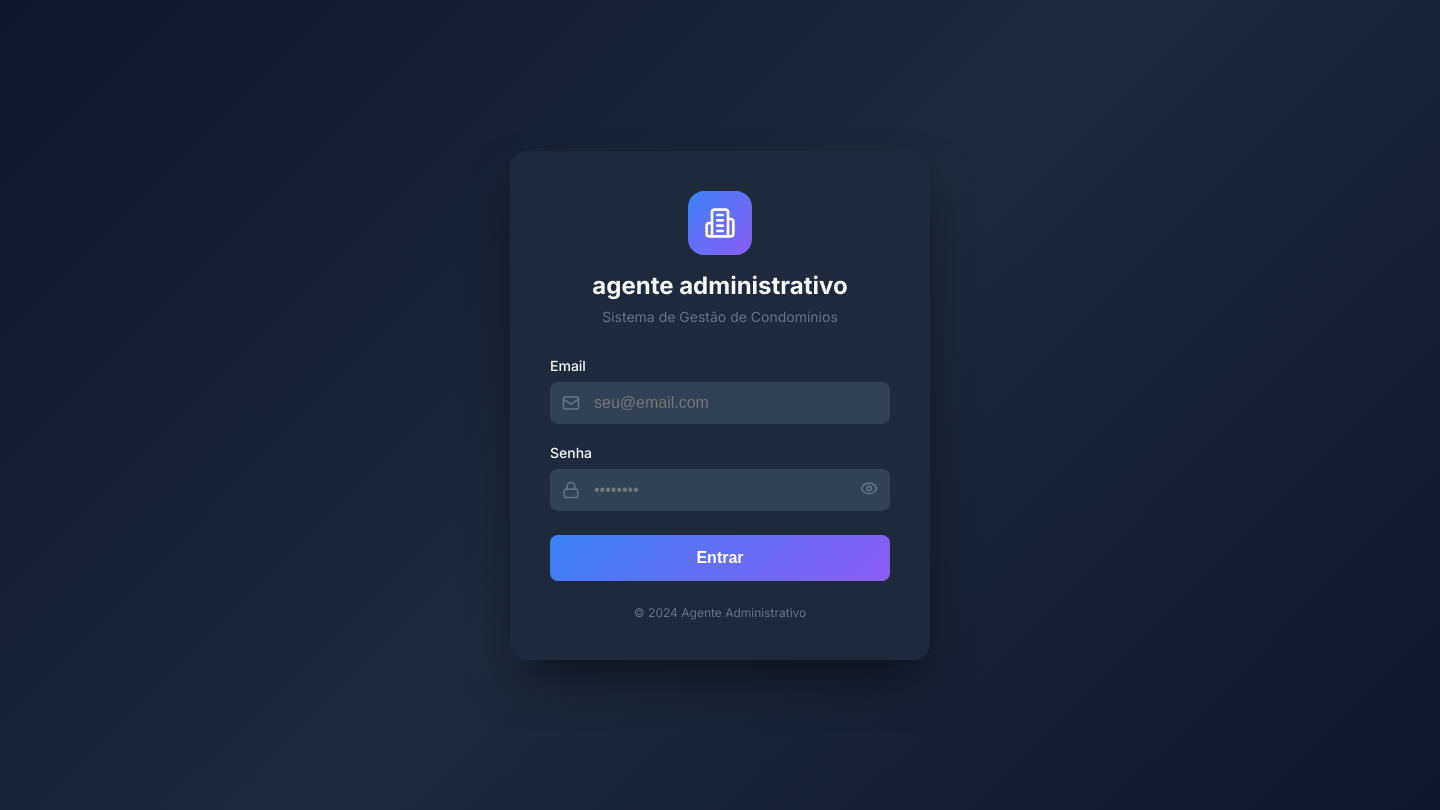
🔐 LoginPage Component › ❌ Tratamento de Erros › exibe erro para falha de conexão
The image size is (1440, 810).
Type "admin@test.com" into the field with placeholder "seu@email.com" at (720, 402), box 550,382 -> 890,424
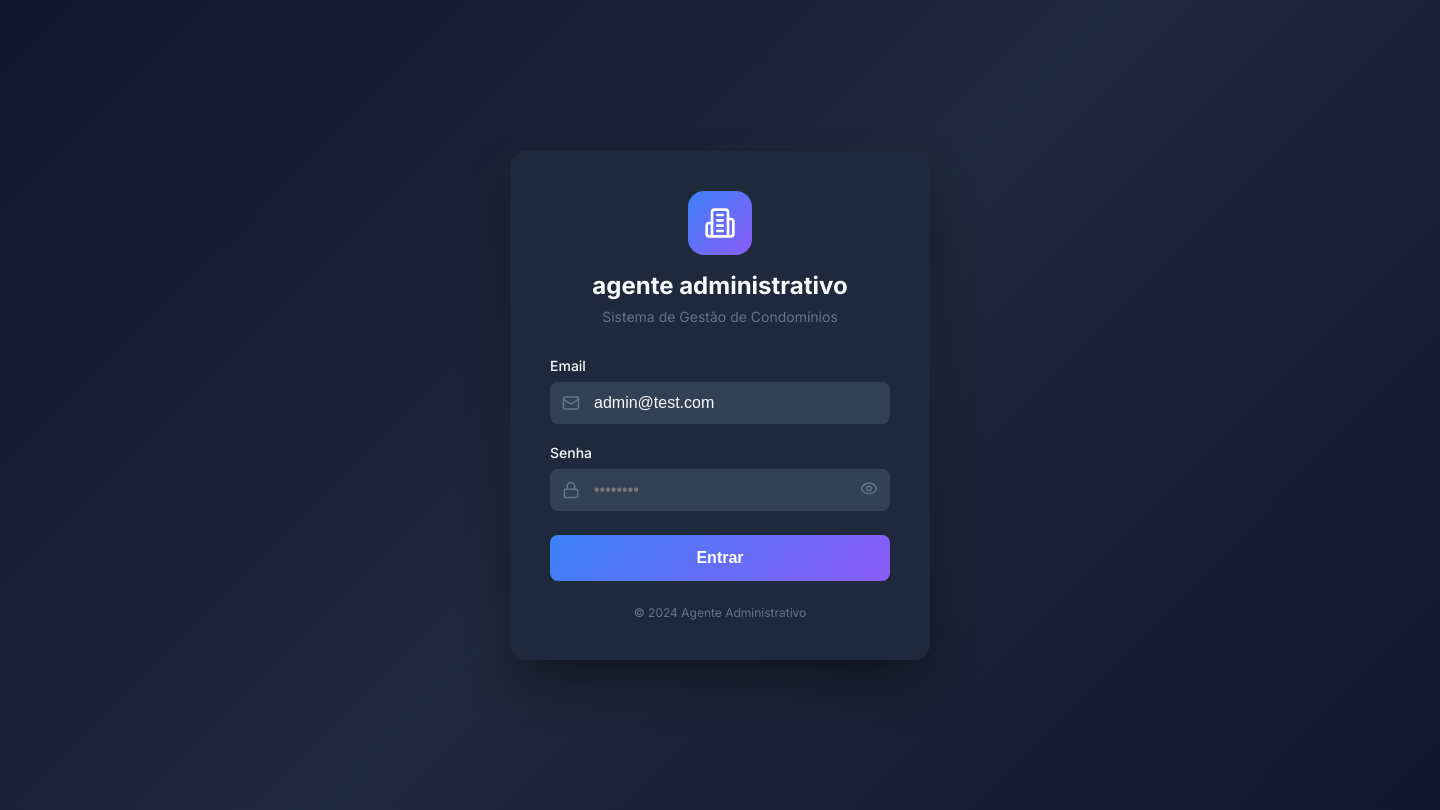
Type "senha123" into the password field with placeholder "••••••••" at (720, 490), box 550,468 -> 890,510
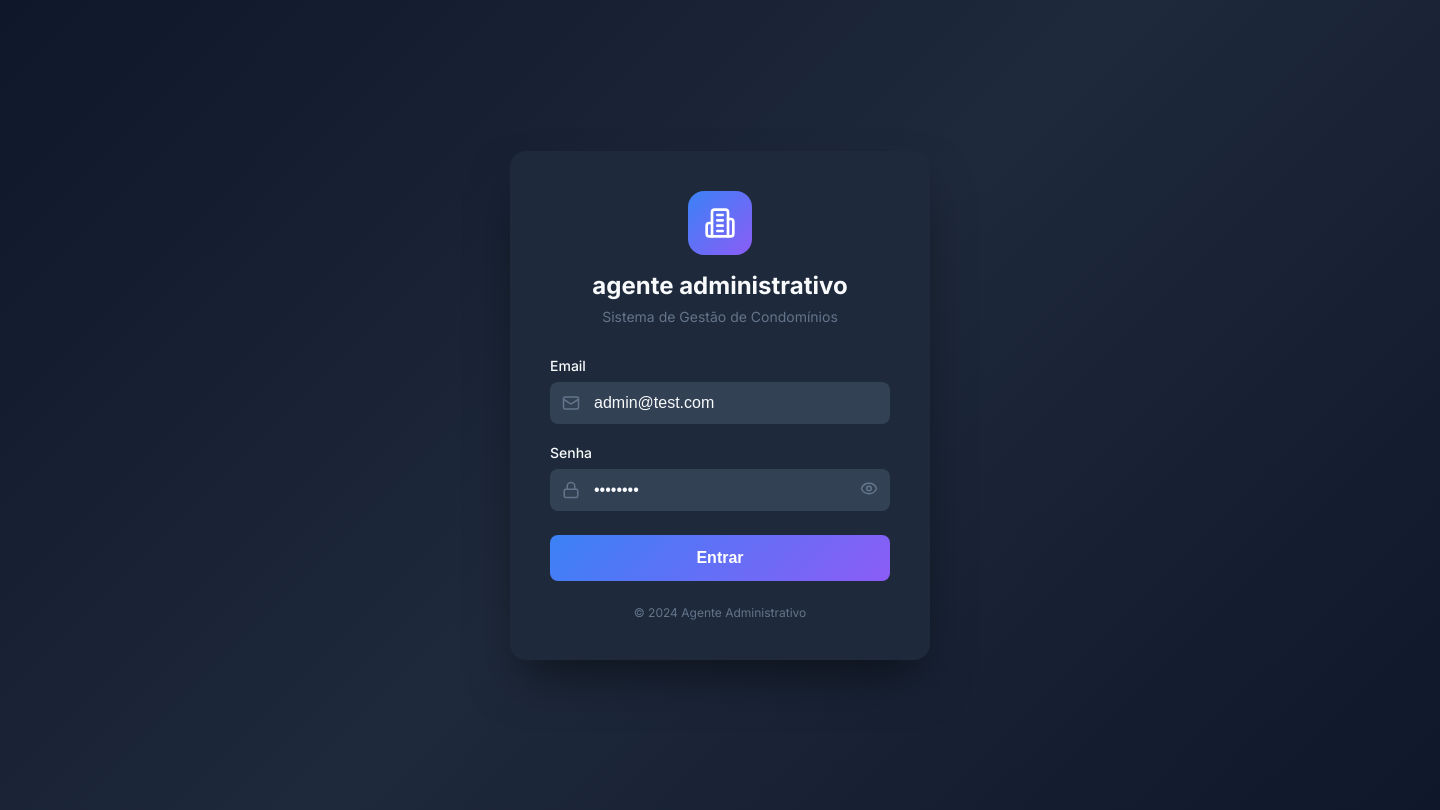
Click the button "Entrar" at (720, 558), box 550,534 -> 890,580
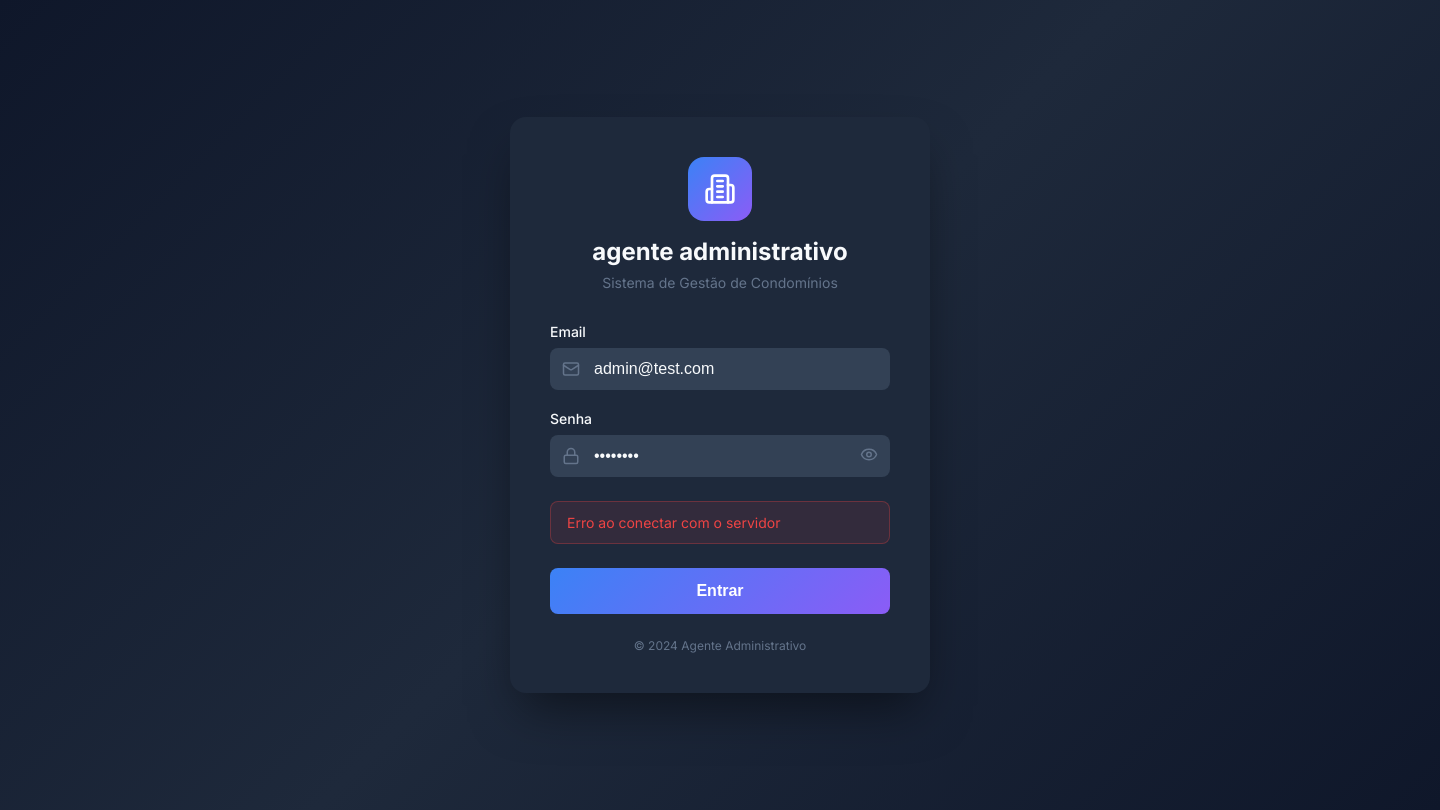
Check: the text "Erro ao conectar com o servidor" is shown, box 550,501 -> 890,544
